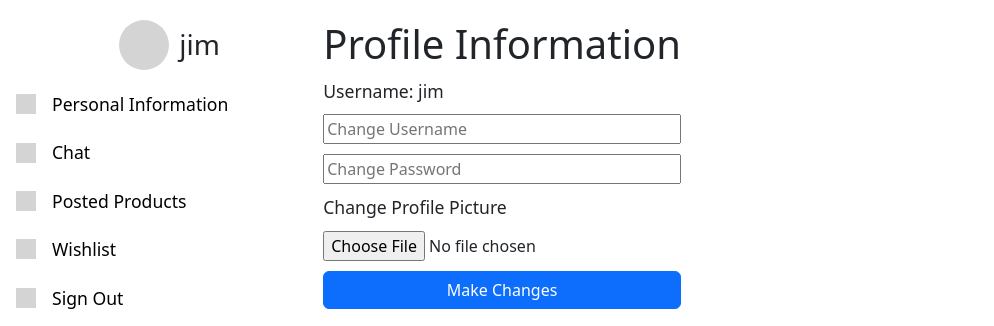
Scenario: active state of the user › shows posted products when user exists and active state is posted
This screenshot has width=994, height=326.
Click the button with test id "posted": coordinates (119, 201) [46,187,192,215]
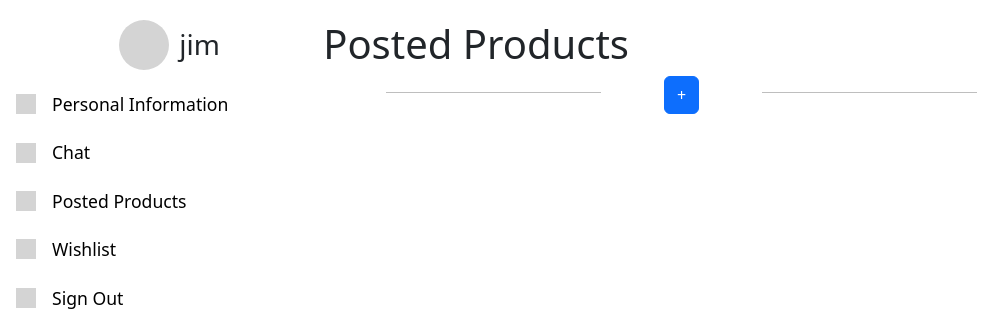
Check: the element with test id "posted-product-page" is shown, box [323,16,699,114]
